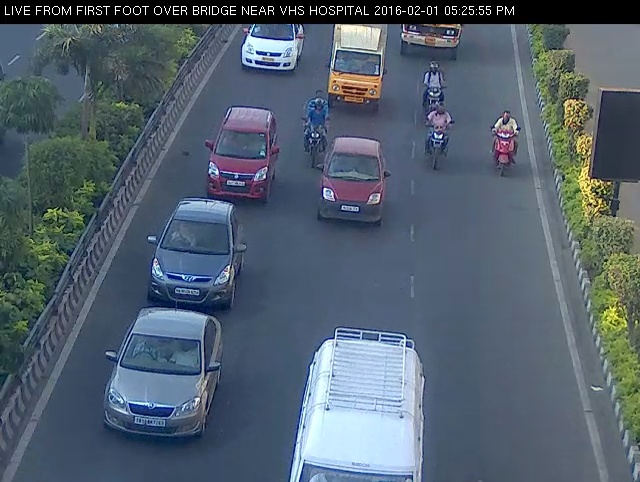Bus: (284, 319, 433, 482), (391, 15, 475, 63)
Car: (89, 294, 239, 453), (143, 194, 253, 312), (199, 94, 283, 211), (311, 132, 397, 232), (320, 16, 392, 116), (227, 18, 310, 79)
Person: (482, 104, 527, 184), (420, 96, 459, 179), (296, 83, 330, 167), (414, 54, 450, 133)
